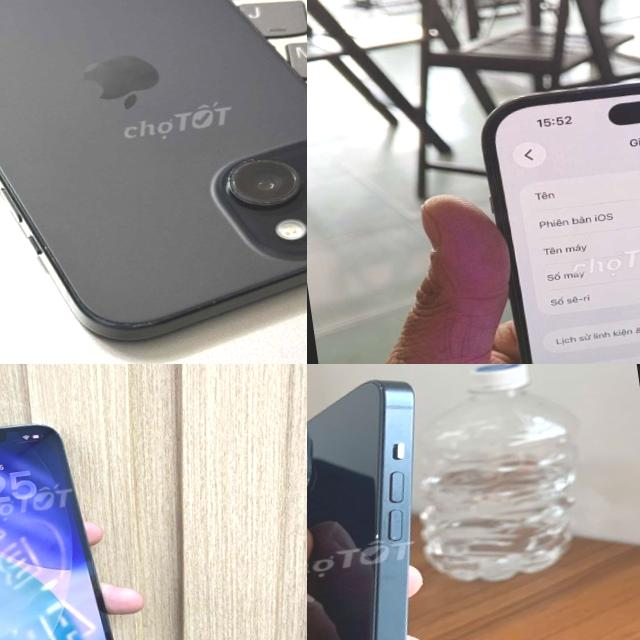gen_12_13: (307, 369, 485, 640), (0, 405, 139, 640)
gen_14: (469, 52, 640, 364)
gen_15: (0, 0, 307, 364)
